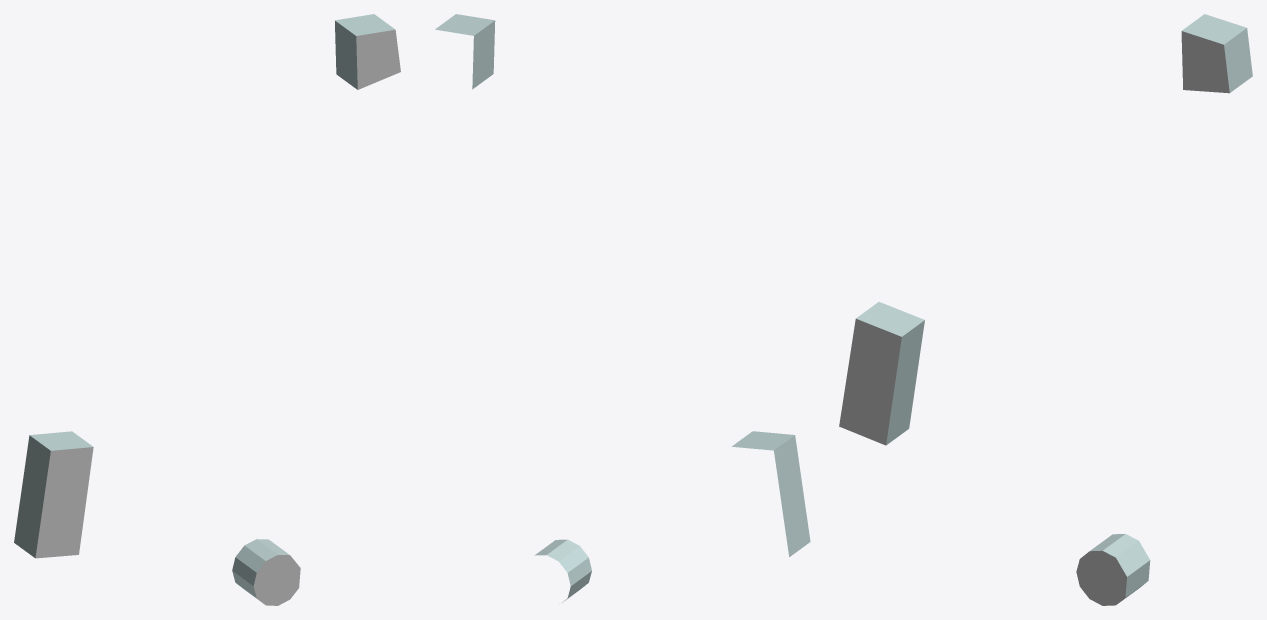
The picture shows the model from 3 angles, left to right: view 1: azimuth 30°, elevation 25°; view 2: azimuth 150°, elevation 25°; view 3: azimuth 330°, elevation 25°; orthographic projection. The views are drawn at different scales.
Parts seen in each view (by area): view 1: 0_3_2_2_1_2_2_2_0; view 2: 0_3_2_2_1_2_2_2_0; view 3: 0_3_2_2_1_2_2_2_0.
Boxes of the visible parts, left/top/right/bottom form: 0_3_2_2_1_2_2_2_0: left=14, top=14, right=400, bottom=605; 0_3_2_2_1_2_2_2_0: left=435, top=14, right=810, bottom=602; 0_3_2_2_1_2_2_2_0: left=839, top=14, right=1252, bottom=605.
Bounding box in the file's own units: 29.39 × 42.72 × 3.36.
